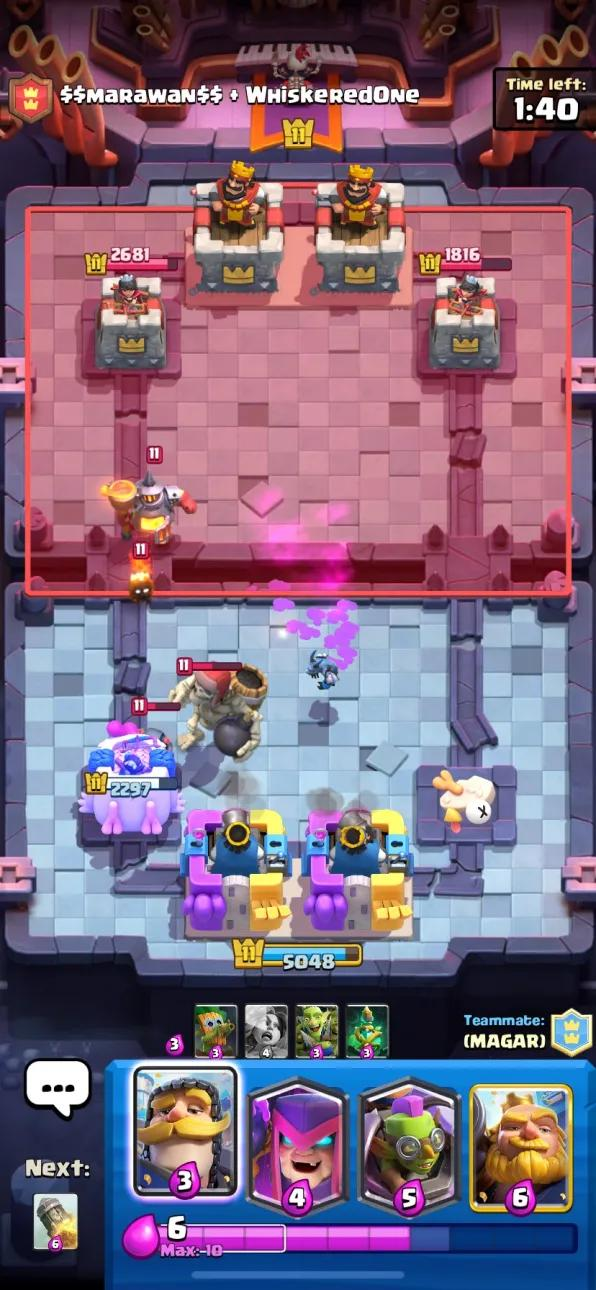EFirespirit: (128, 542, 153, 602)
EFurnace: (101, 472, 196, 545)
EGiantSkeleton: (169, 664, 266, 762)
EKingTower: (193, 161, 283, 294), (315, 164, 405, 293)
EMiniPeka: (137, 728, 173, 751)
EnemyPrincessTower: (429, 274, 499, 371), (95, 274, 165, 371)
OwnKingTower: (182, 808, 291, 938), (307, 803, 415, 932)
OwnPrincessTower: (80, 722, 182, 834)
TowerDown: (416, 765, 516, 847)
ominion: (306, 650, 338, 690)
